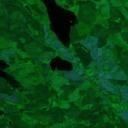alloviz: (38, 1, 79, 48), (1, 59, 21, 89), (49, 55, 74, 73)
